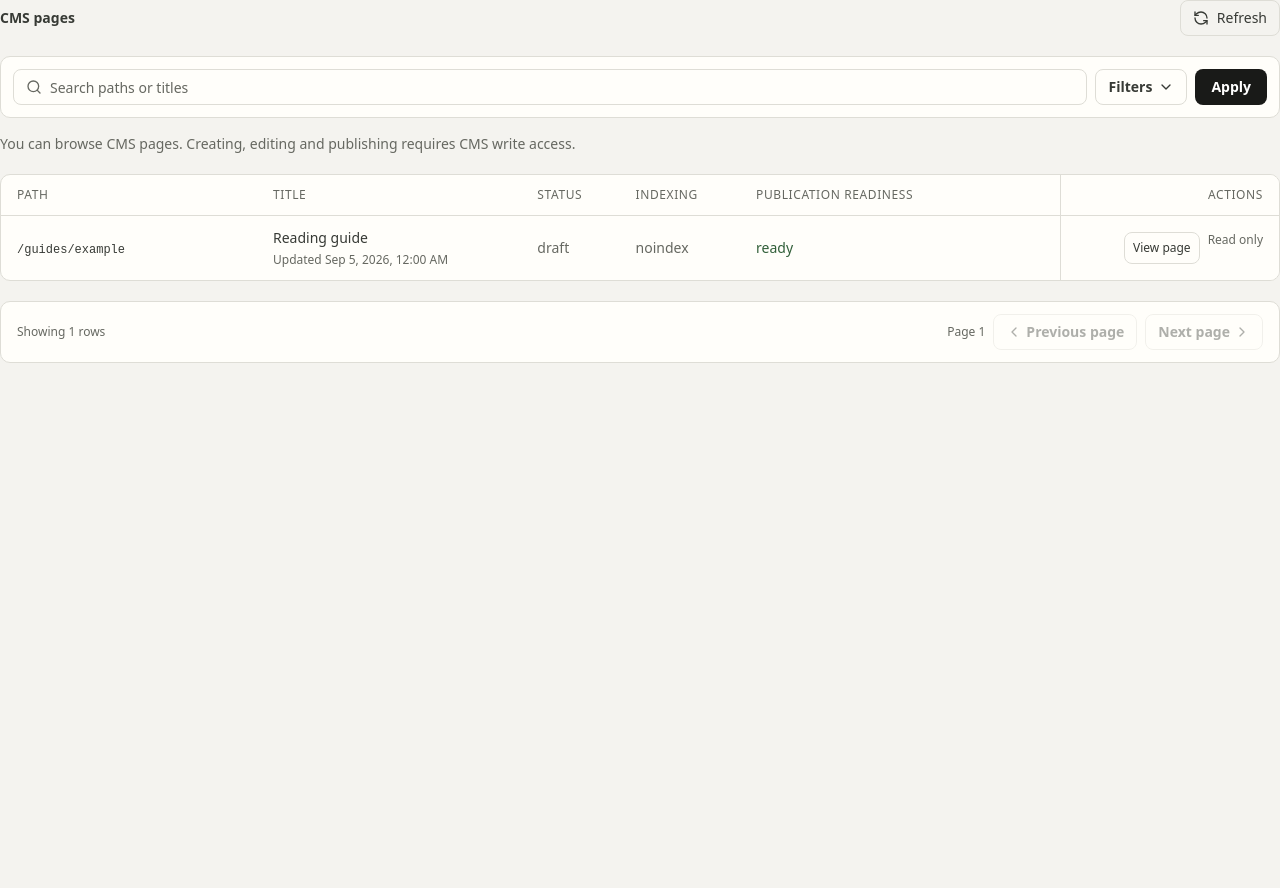
Test case: CMS operating permissions and article fields › retries the failed article read instead of refreshing the successful page list
What coordinates should you click on to do the following:
click the button "View page"
I would click on:
 (1162, 248)
Its box is x1=1124 y1=232 x2=1200 y2=264.
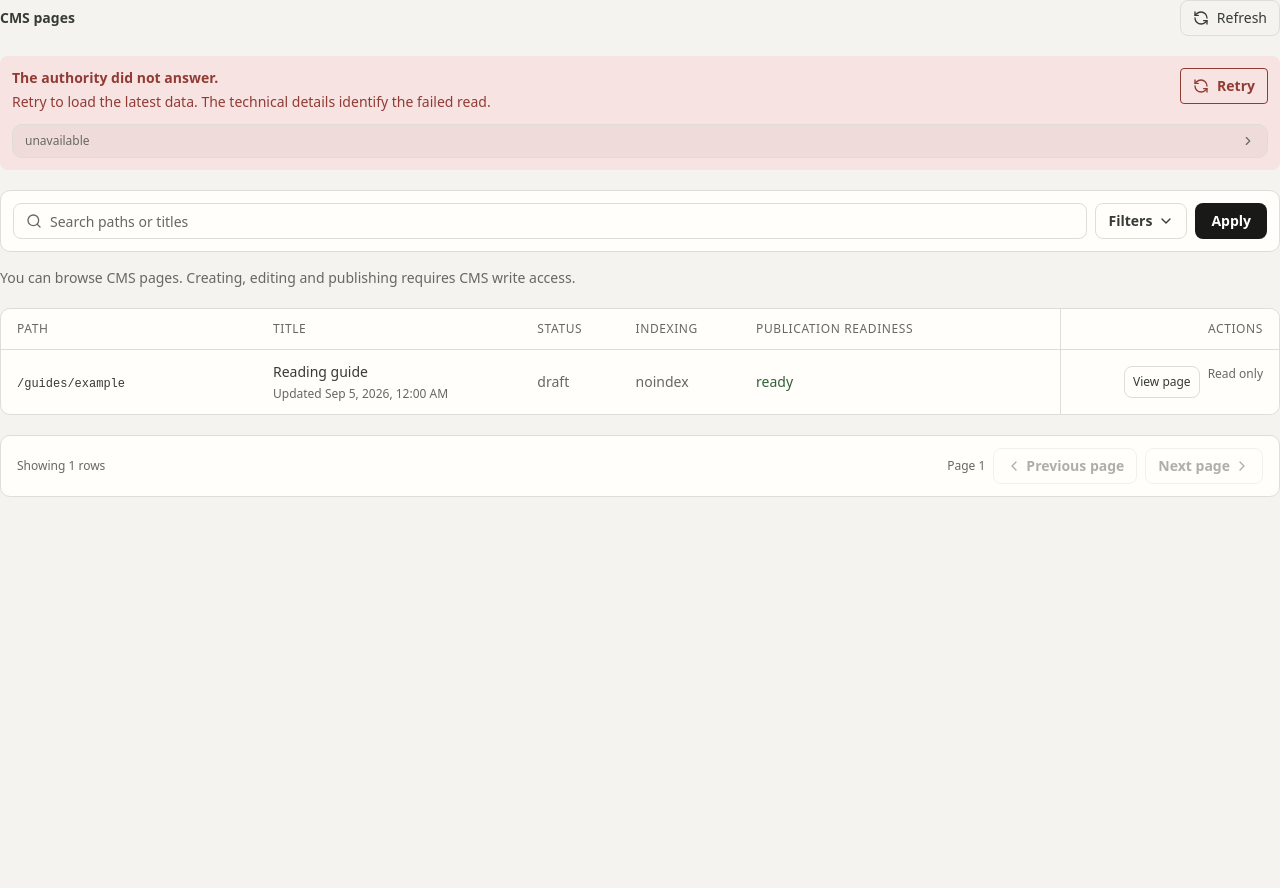
expect the message is shown: met, box x1=0 y1=56 x2=1279 y2=170
What coordinates should you click on to do the following:
click the button "Retry"
I would click on:
 (1224, 86)
Its box is x1=1180 y1=68 x2=1268 y2=104.
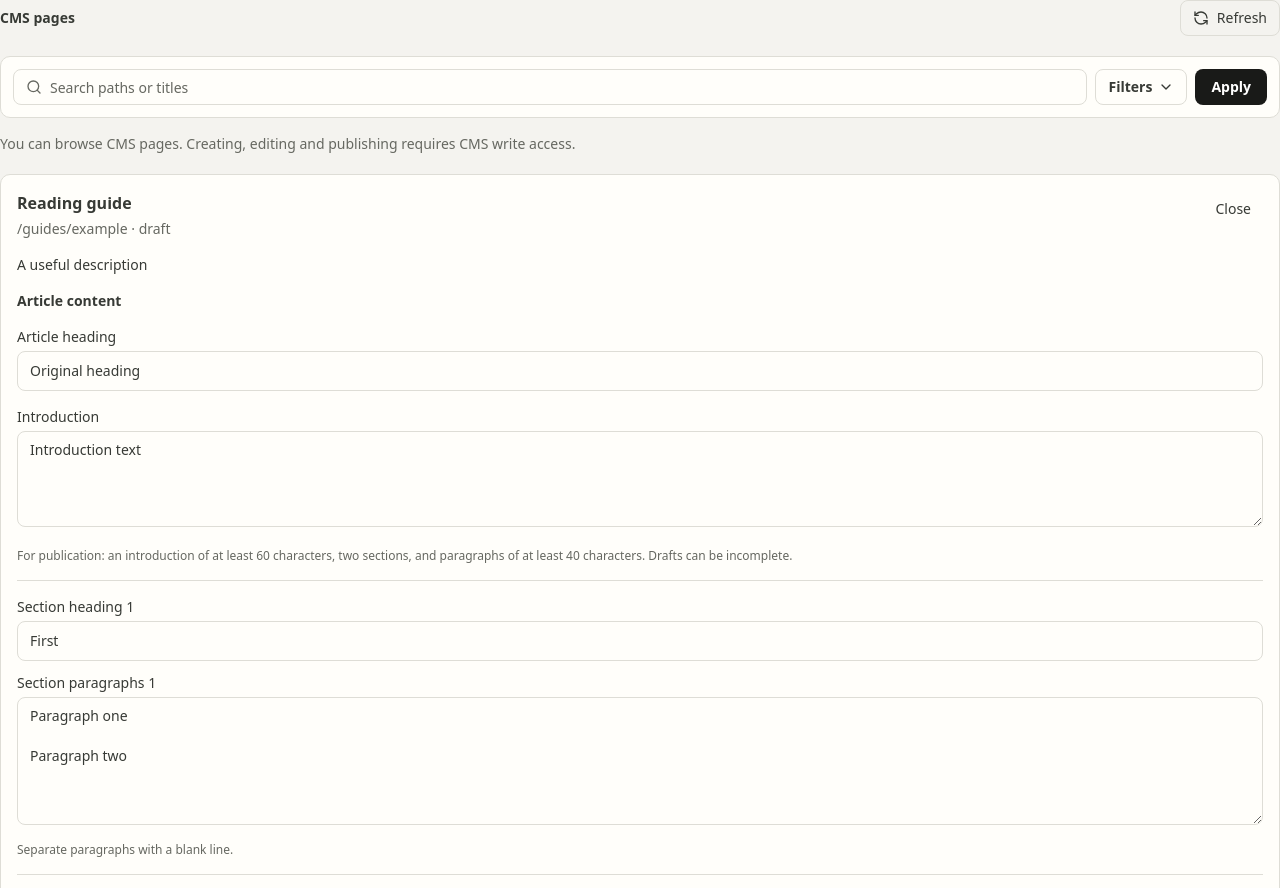
expect the field labelled "Article heading" holds "Original heading": met, box x1=17 y1=351 x2=1263 y2=391
expect the message is gone: met
